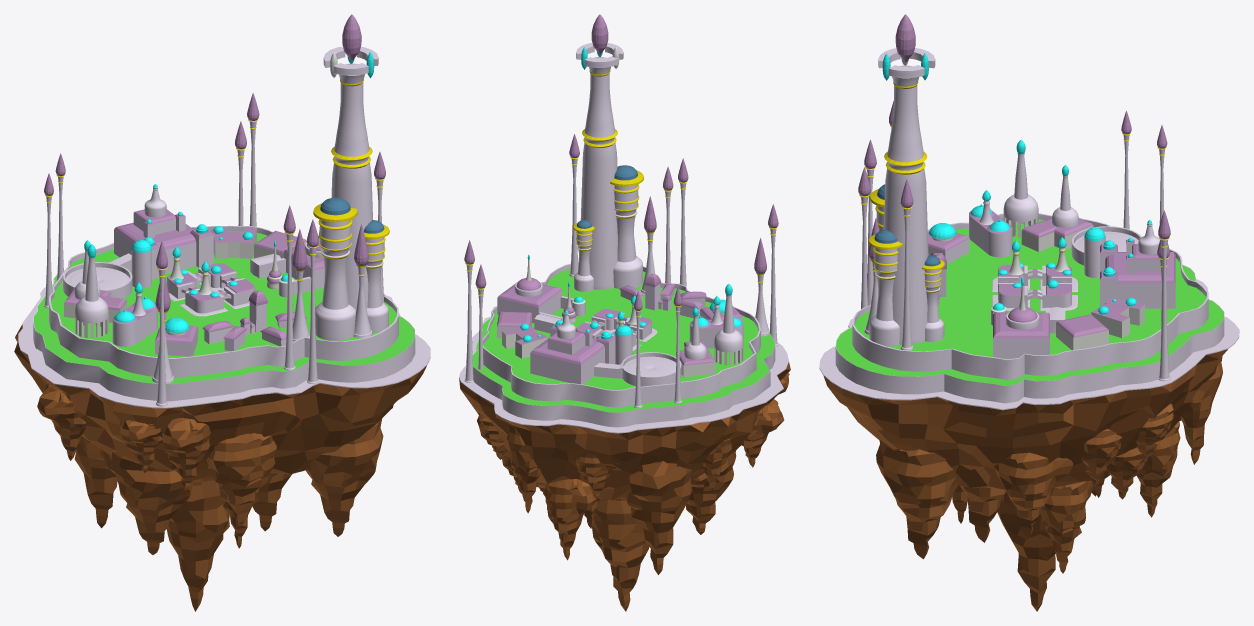
File: castle.glb
3 views of the same model, side by side, from view 1: azimuth 30°, elevation 25°; view 2: azimuth 150°, elevation 25°; view 3: azimuth 270°, elevation 25° (orthographic). The views are drawn at different scales.
Parts seen in each view (by area): view 1: Cylinder.038; view 2: Cylinder.038; view 3: Cylinder.038.
Boxes of the visible parts, x1,y1,x2,y2 form: Cylinder.038: (14,14,430,611); Cylinder.038: (459,14,790,611); Cylinder.038: (819,14,1239,611).
Bounding box in the file's own units: 14.58 × 24.99 × 14.75.
